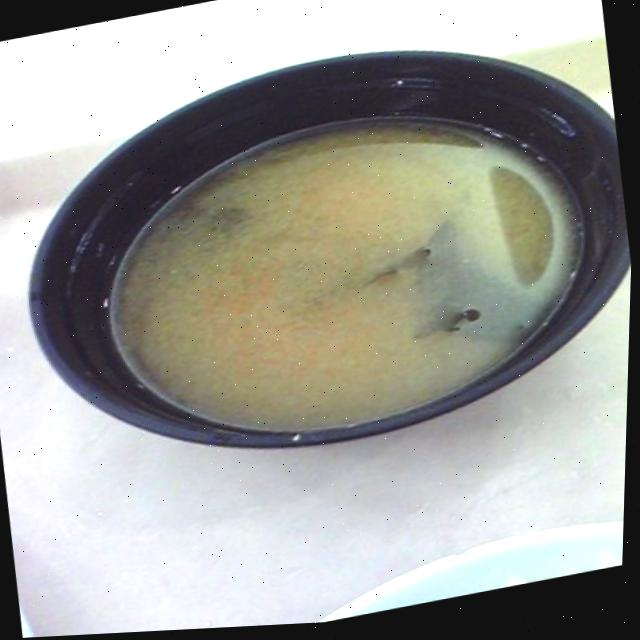汤锅炖物: (0, 0, 639, 506)
